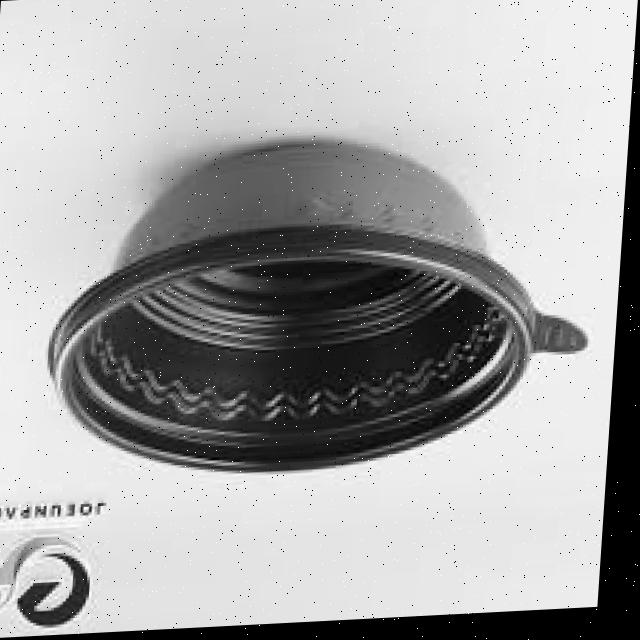disposable: (35, 118, 565, 512)
